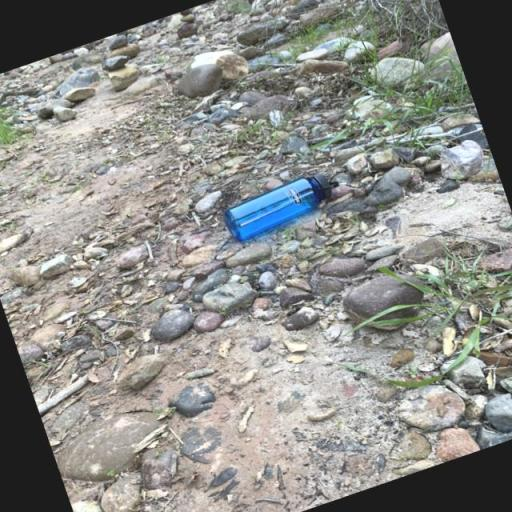bottle: (219, 166, 346, 244)
